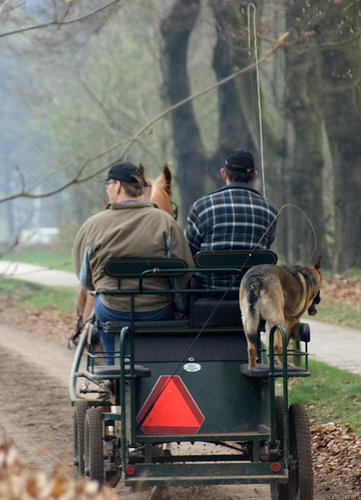horse: (67, 160, 179, 373)
